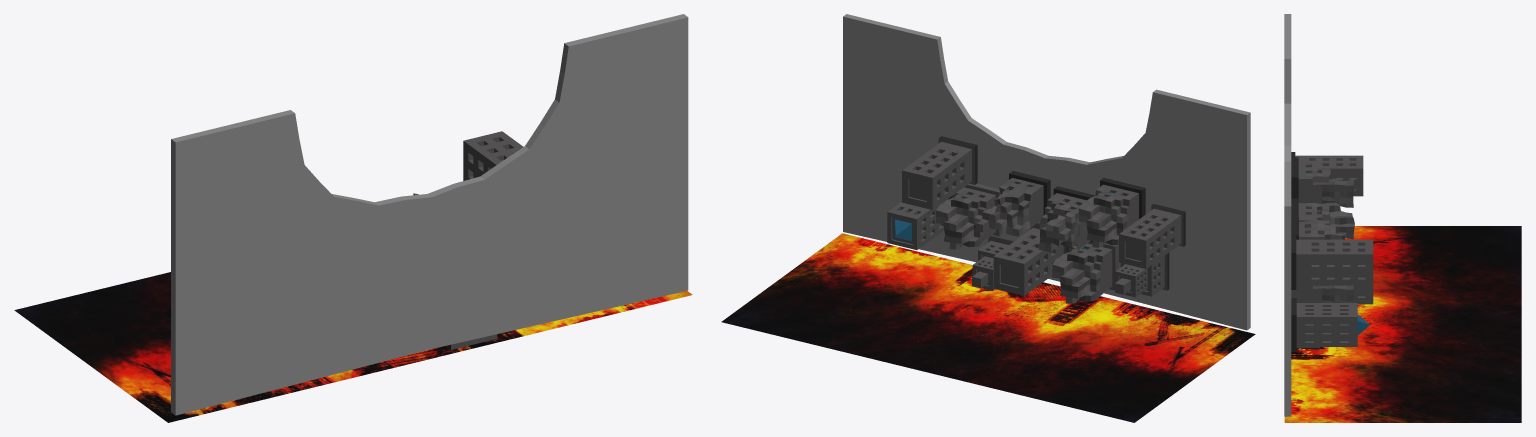
The model's file is city.gltf.
3 views of the same model, side by side, from view 1: azimuth 30°, elevation 25°; view 2: azimuth 150°, elevation 25°; view 3: azimuth 270°, elevation 25° (orthographic). The views are drawn at different scales.
Parts seen in each view (by area): view 1: Start Screen, Plane.004, Cube.007; view 2: Plane.004, Start Screen, Cube.007, Cube.018, Cube.016, Cube.014, Cube.001, Cube.013, Cube.015, Cube.019, Cube.012, Cube.008 (+1 smaller); view 3: Plane.004, Cube.007, Start Screen, Cube.012, Cube.018, Cube.019, Cube.001, Cube.015, Cube.014, Cube.013.
Part boxes in pixels (<box>): Start Screen: <box>171,14,688,415</box>; Plane.004: <box>14,272,692,422</box>; Cube.007: <box>463,131,523,180</box>; Plane.004: <box>721,233,1255,422</box>; Start Screen: <box>843,14,1250,330</box>; Cube.007: <box>902,136,977,209</box>; Cube.018: <box>1078,178,1145,247</box>; Cube.016: <box>1052,241,1118,303</box>; Cube.014: <box>975,171,1050,236</box>; Cube.001: <box>1119,204,1185,268</box>; Cube.013: <box>993,223,1068,295</box>; Cube.015: <box>936,183,1002,249</box>; Cube.019: <box>1038,186,1095,252</box>; Cube.012: <box>887,195,952,249</box>; Cube.008: <box>1115,252,1169,297</box>; Plane.004: <box>1284,226,1521,422</box>; Cube.007: <box>1291,235,1373,289</box>; Start Screen: <box>1284,14,1291,416</box>; Cube.012: <box>1291,298,1369,351</box>; Cube.018: <box>1291,157,1354,207</box>; Cube.019: <box>1291,198,1354,239</box>; Cube.001: <box>1291,152,1363,196</box>; Cube.015: <box>1291,285,1354,302</box>; Cube.014: <box>1291,217,1345,239</box>; Cube.013: <box>1353,285,1373,304</box>.
Size of the model in its own units: 73.48 by 37.57 by 37.47.
Materials: 5 (1 with a texture image).
